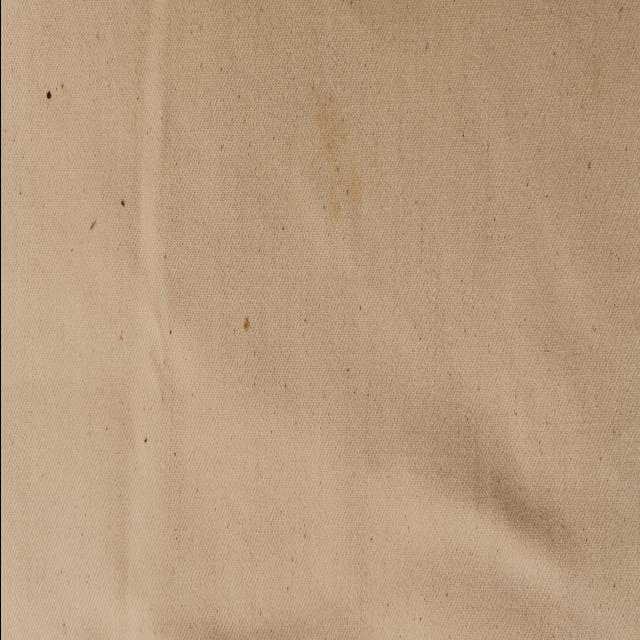taaaches: (315, 74, 371, 232), (240, 310, 252, 338), (43, 82, 55, 109)
